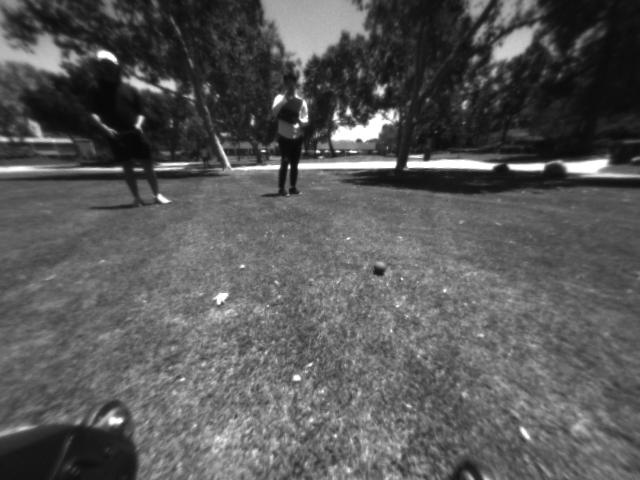dogtoy: (368, 257, 393, 281)
